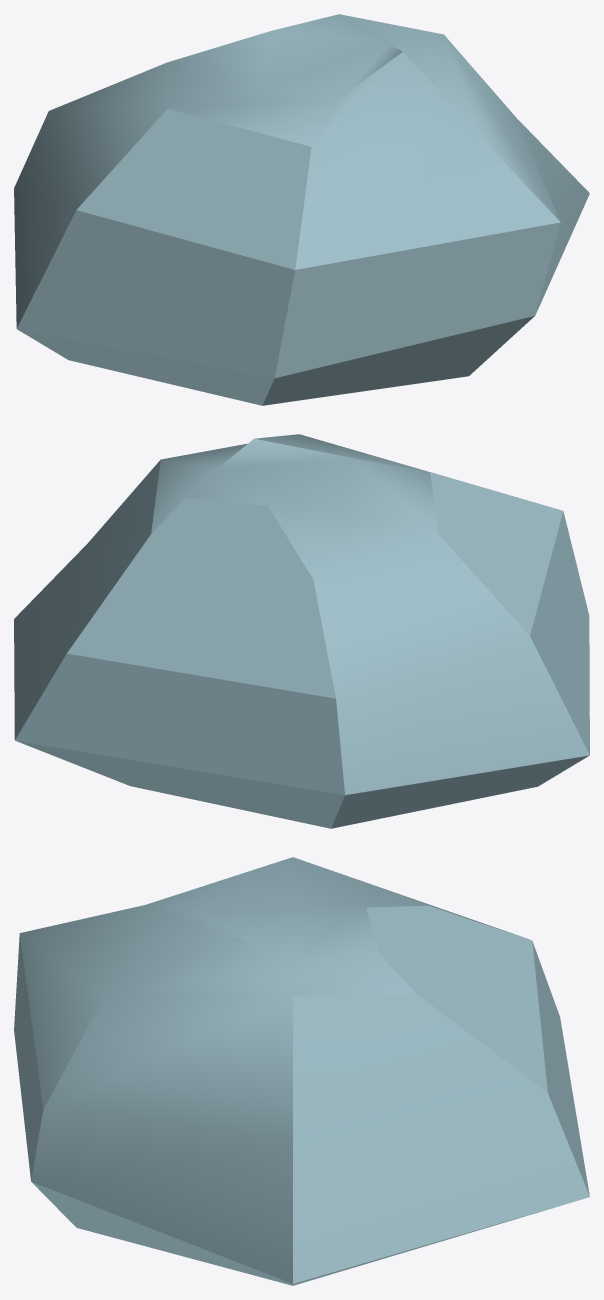
Rendered from prop_rock_seira_v4_ShadowProxy.glb.
3 views of the same model, one above another, from view 1: azimuth 30°, elevation 25°; view 2: azimuth 150°, elevation 25°; view 3: azimuth 270°, elevation 25° (orthographic). The views are drawn at different scales.
Visible parts, largest first — view 1: prop_rock_seira_v4_ShadowProxy / Natural silhouette; view 2: prop_rock_seira_v4_ShadowProxy / Natural silhouette; view 3: prop_rock_seira_v4_ShadowProxy / Natural silhouette.
Part boxes in pixels (x1,y1,x2,y2): prop_rock_seira_v4_ShadowProxy / Natural silhouette: (14, 14, 589, 405); prop_rock_seira_v4_ShadowProxy / Natural silhouette: (14, 434, 589, 828); prop_rock_seira_v4_ShadowProxy / Natural silhouette: (14, 857, 589, 1285).
Size of the model in its own units: 1.81 by 0.8379 by 1.45.
